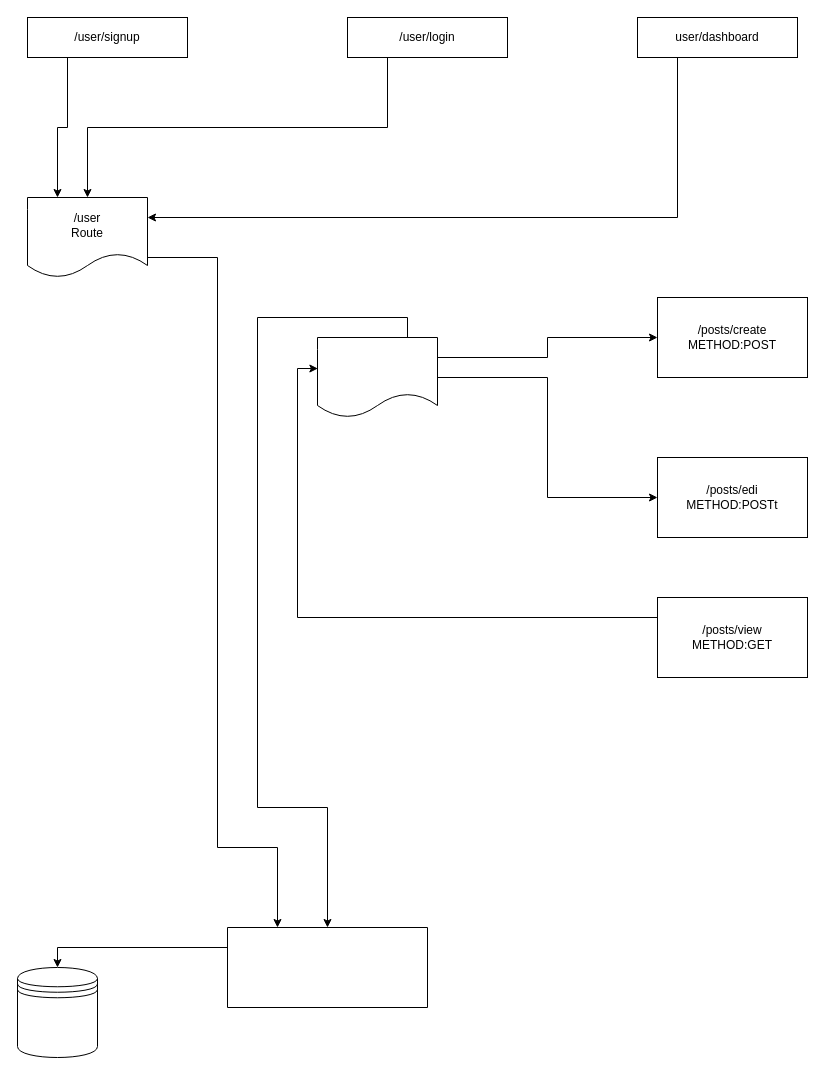
This 825x1075 diagram has some shape labels left out. Each missing label, with the centre of its shape:
/posts: point (377, 377)
Main Server: point (327, 967)
